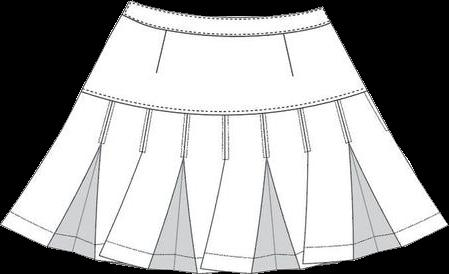Hemline: (0, 222, 448, 273)
Waistline: (79, 87, 367, 116), (121, 12, 330, 37), (130, 0, 323, 19)
